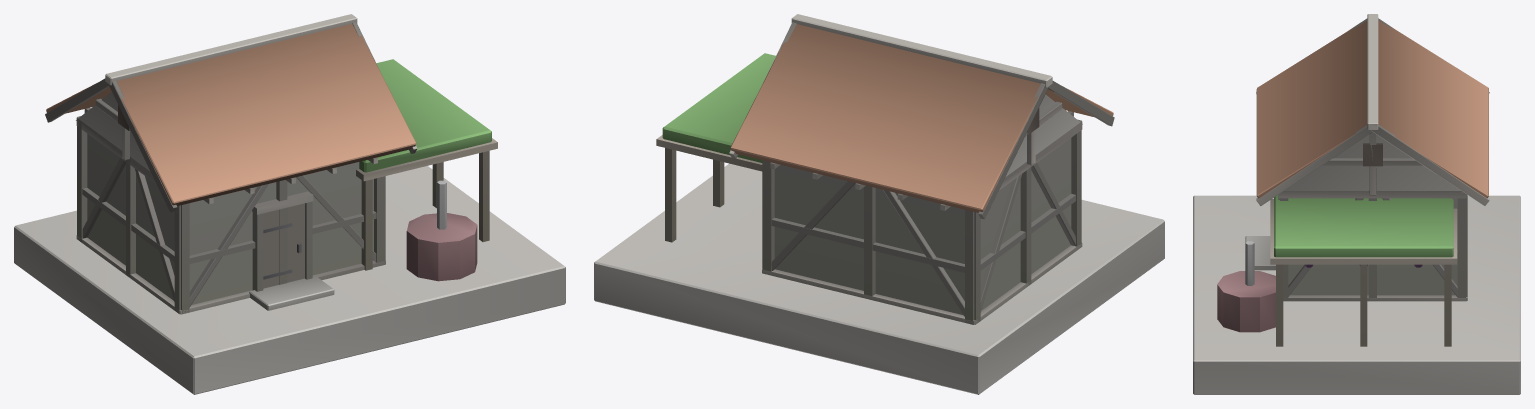
The model's file is vineyard_l1_lod0.glb.
3 renders of one model, left to right at view 1: azimuth 30°, elevation 25°; view 2: azimuth 150°, elevation 25°; view 3: azimuth 270°, elevation 25°, orthographic. The views are drawn at different scales.
Visible parts, largest first — view 1: vineyard_l1_lod0; view 2: vineyard_l1_lod0; view 3: vineyard_l1_lod0.
Boxes of the visible parts, x1,y1,x2,y2 form: vineyard_l1_lod0: [14, 14, 565, 394]; vineyard_l1_lod0: [594, 14, 1164, 394]; vineyard_l1_lod0: [1193, 14, 1520, 394].
Size of the model in its own units: 8.6 by 5.38 by 7.2.
